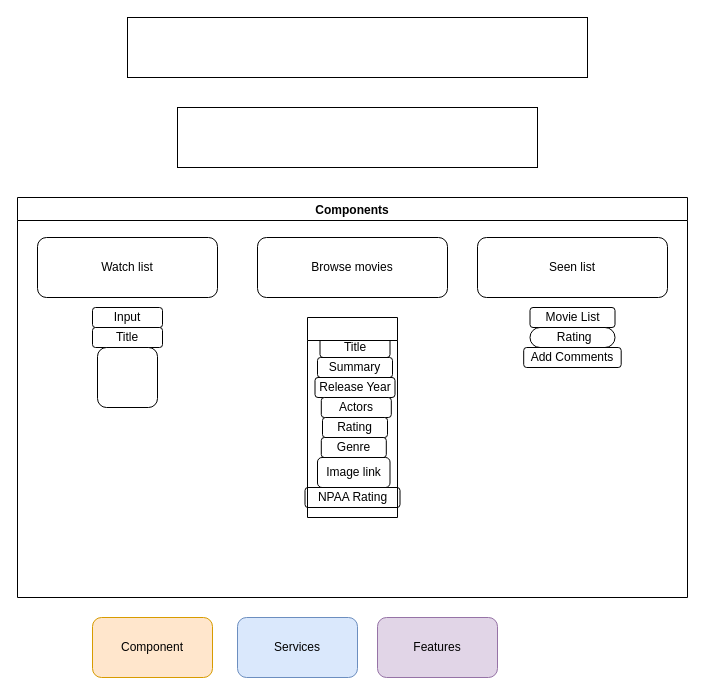
Some shapes in this 705 by 695 pixel diagram are drawn without their labels. The centre of each missing label's shape, as x and y in pixels:
Header: the point at 357,137
Movie App: the point at 357,47
Movie Model: the point at 352,417
Platform i.e Hulu Netfuzz: the point at 127,377
